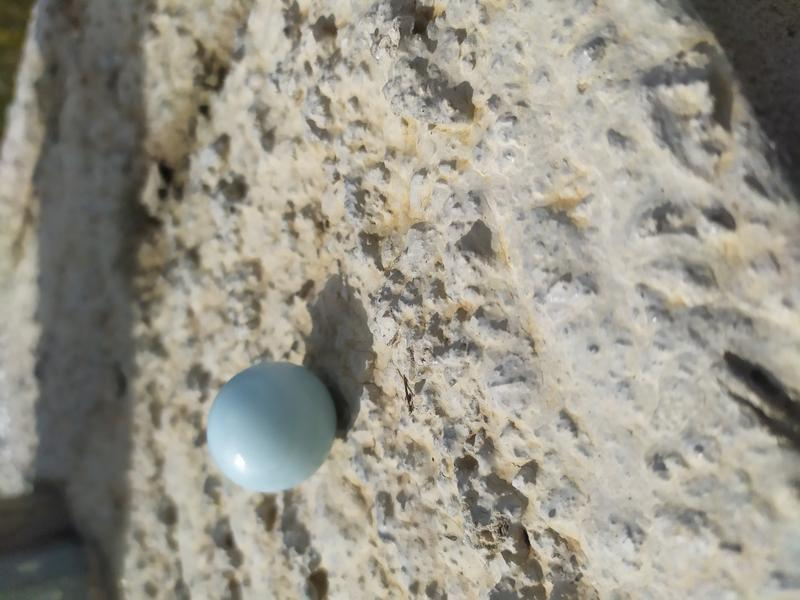Warning: (202, 357, 342, 496)
